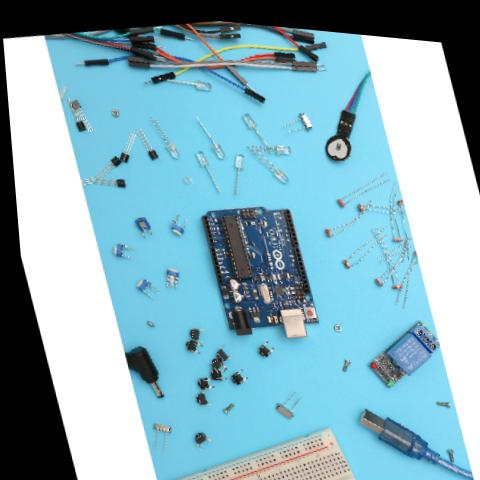Arduino-Uno: (193, 188, 321, 348)
